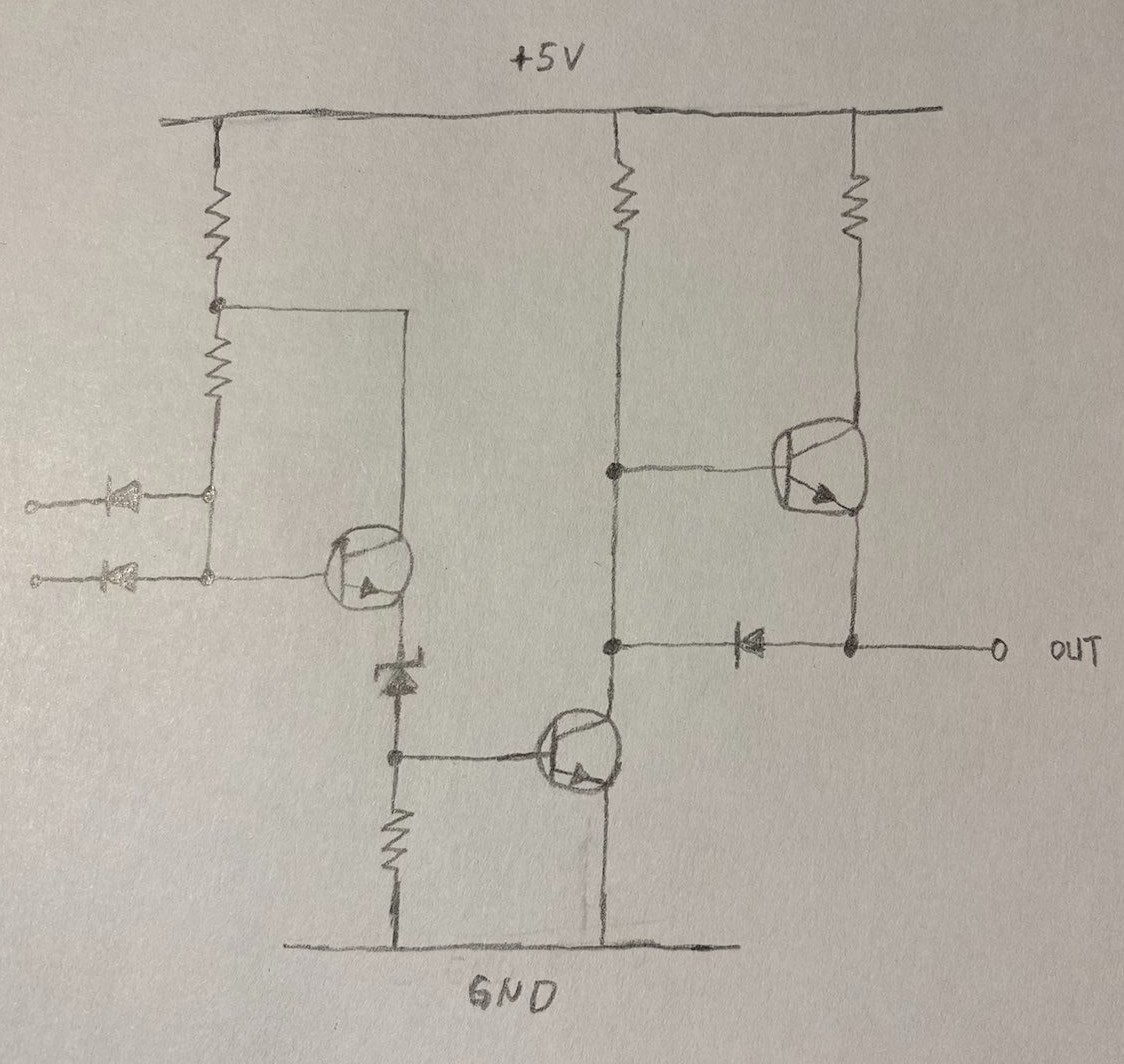diode: (363, 644, 433, 704), (717, 613, 780, 673), (93, 468, 154, 523), (92, 553, 148, 603)
junction: (833, 625, 874, 669), (376, 741, 420, 781), (377, 927, 419, 968), (593, 625, 638, 663), (185, 559, 226, 595), (189, 478, 230, 511), (598, 452, 635, 487), (387, 297, 423, 331), (201, 287, 238, 320), (586, 928, 620, 960), (201, 102, 236, 133), (598, 96, 627, 126), (840, 97, 866, 126)
resistor: (605, 152, 640, 250), (200, 174, 234, 270), (378, 801, 416, 884), (839, 168, 875, 248), (200, 331, 235, 409)
terminal: (706, 929, 759, 968), (267, 928, 314, 965), (980, 628, 1016, 670), (142, 104, 184, 140), (922, 92, 960, 124), (15, 486, 47, 523), (22, 564, 54, 595)
text: (461, 968, 566, 1020), (504, 32, 594, 82), (1048, 631, 1107, 674)
transistor: (760, 410, 881, 530), (315, 518, 426, 618), (526, 703, 633, 805)
